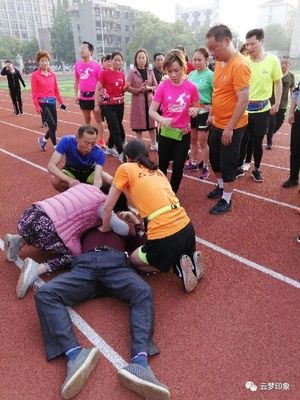10+: (3, 22, 300, 397)
down: (43, 227, 182, 396)
